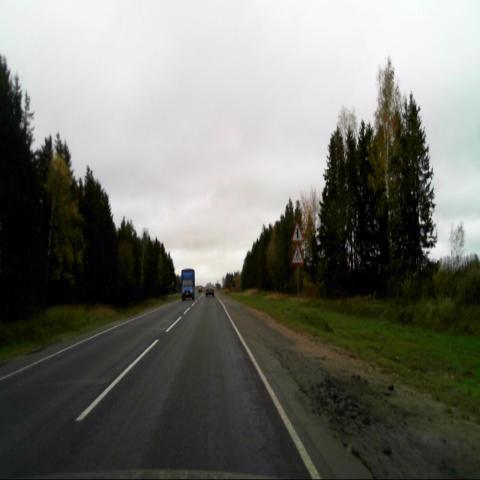2_3_3: (292, 223, 304, 243)
